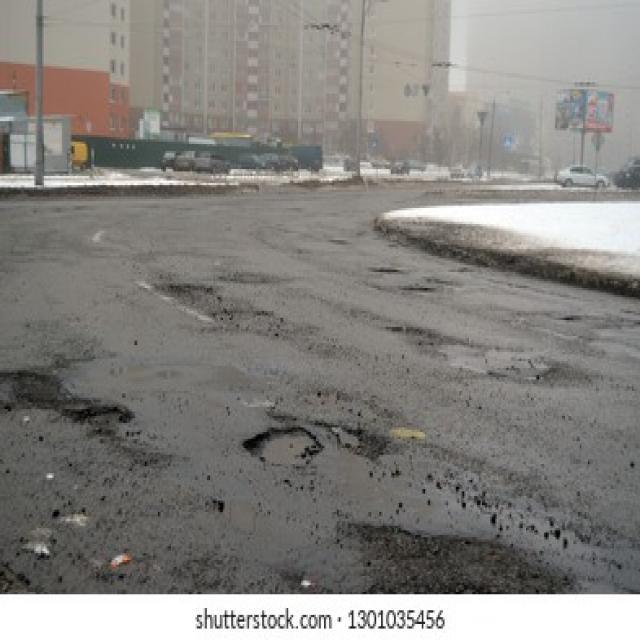Pothole: (242, 425, 322, 473), (0, 366, 64, 420), (70, 402, 129, 432)
